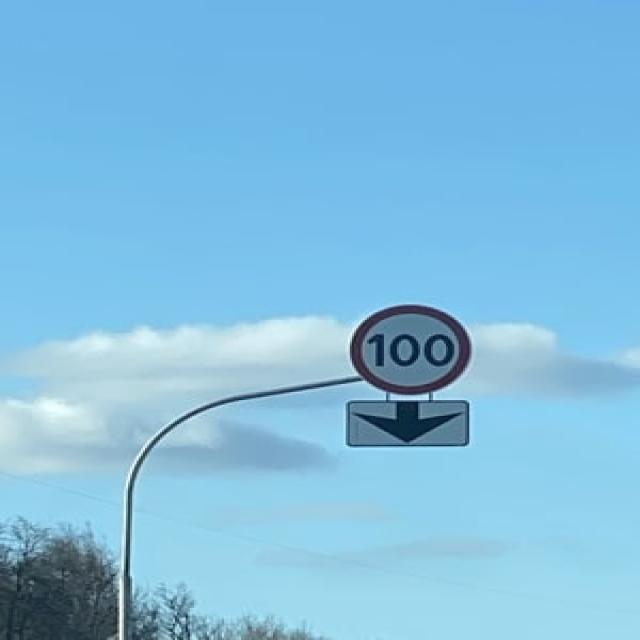Speed Limit -100-: (364, 329, 465, 372)
